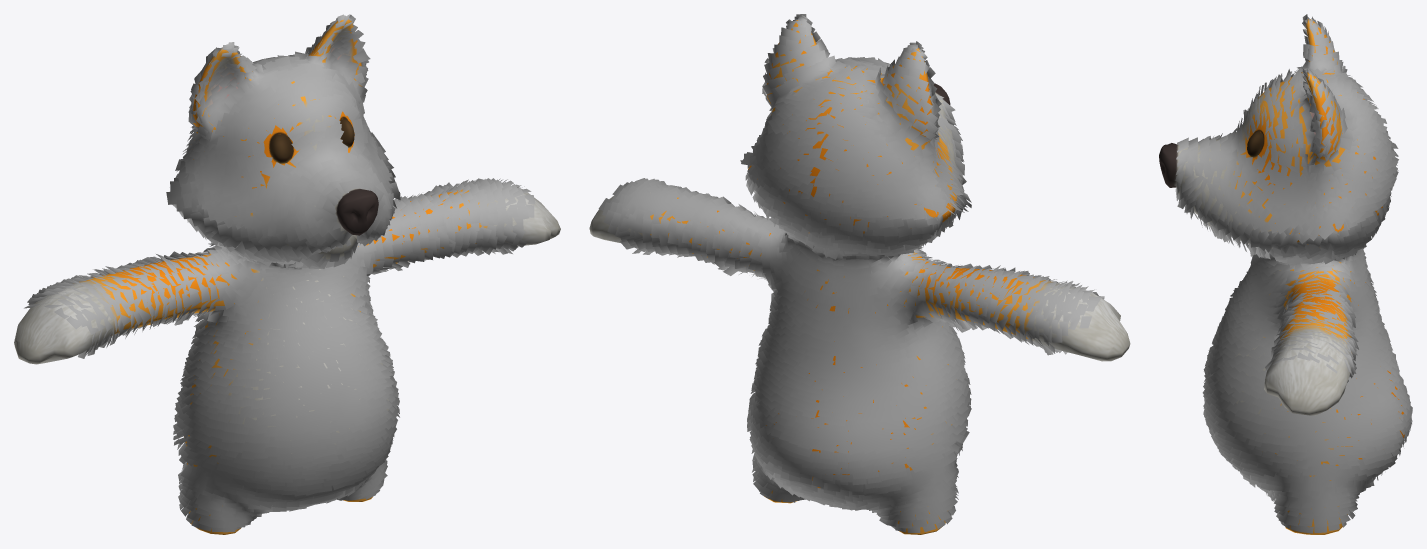
3 renders of one model, left to right at view 1: azimuth 30°, elevation 25°; view 2: azimuth 150°, elevation 25°; view 3: azimuth 270°, elevation 25°, orthographic. The views are drawn at different scales.
Parts seen in each view (by area): view 1: maomao, dogbody; view 2: maomao, dogbody; view 3: maomao, dogbody.
Boxes of the visible parts, bbox=[...] form: maomao: bbox=[24, 14, 535, 532]; dogbody: bbox=[14, 19, 560, 534]; maomao: bbox=[598, 14, 1104, 532]; dogbody: bbox=[589, 20, 1130, 534]; maomao: bbox=[1175, 14, 1412, 533]; dogbody: bbox=[1159, 19, 1404, 534].
Size of the model in its own units: 238 by 204 by 104.
